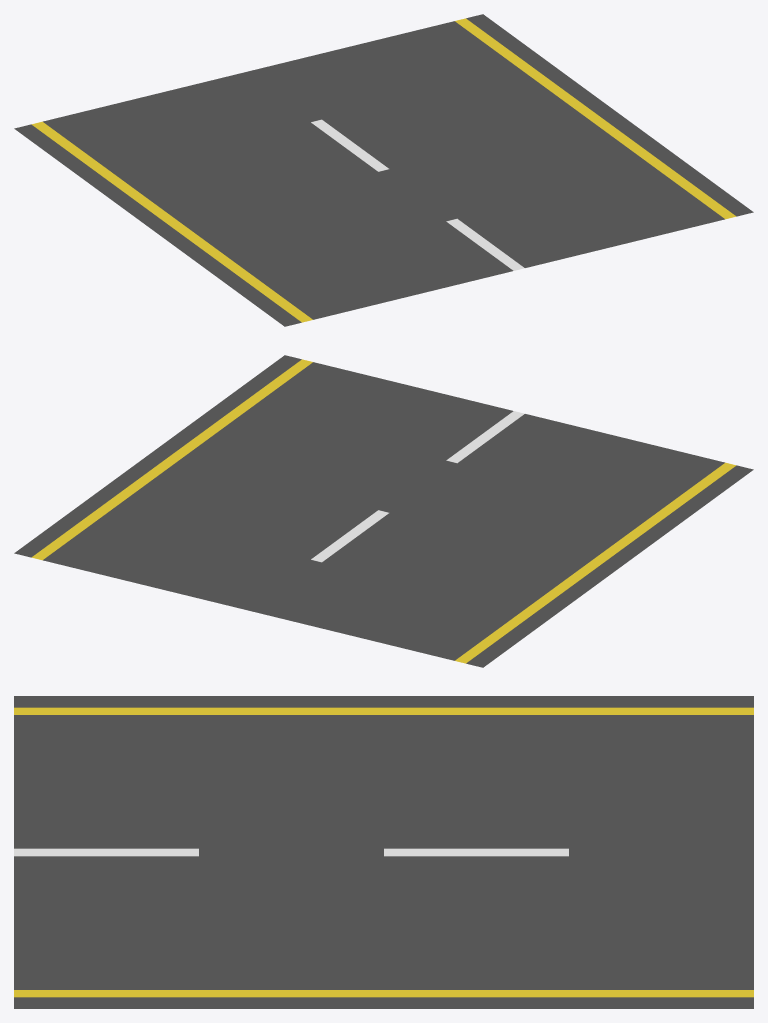
Rendered from road_001.FBX.
3 views of the same model, one above another, from view 1: azimuth 30°, elevation 25°; view 2: azimuth 150°, elevation 25°; view 3: azimuth 270°, elevation 25° (orthographic). The views are drawn at different scales.
Visible parts, largest first — view 1: road_001; view 2: road_001; view 3: road_001.
Boxes of the visible parts, x1,y1,x2,y2 form: road_001: [14, 14, 753, 326]; road_001: [14, 355, 753, 667]; road_001: [14, 696, 753, 1008].
Bounding box in the file's own units: 500 × 2.19e-05 × 500.
